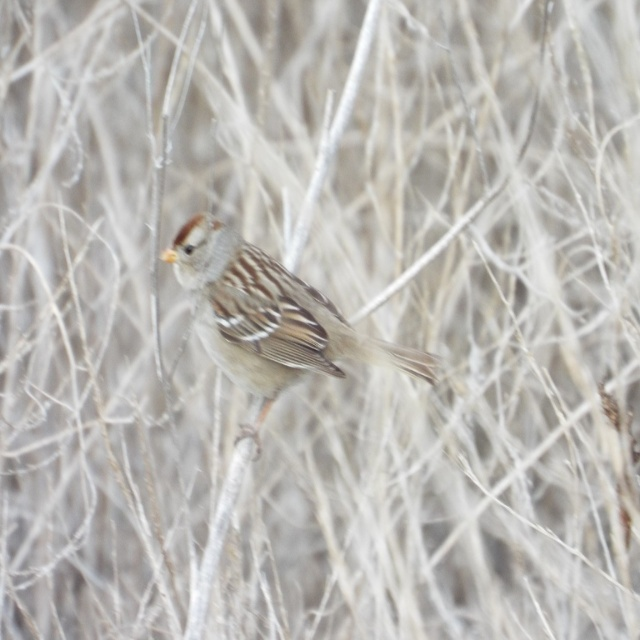Sparrow: (161, 213, 441, 465)
